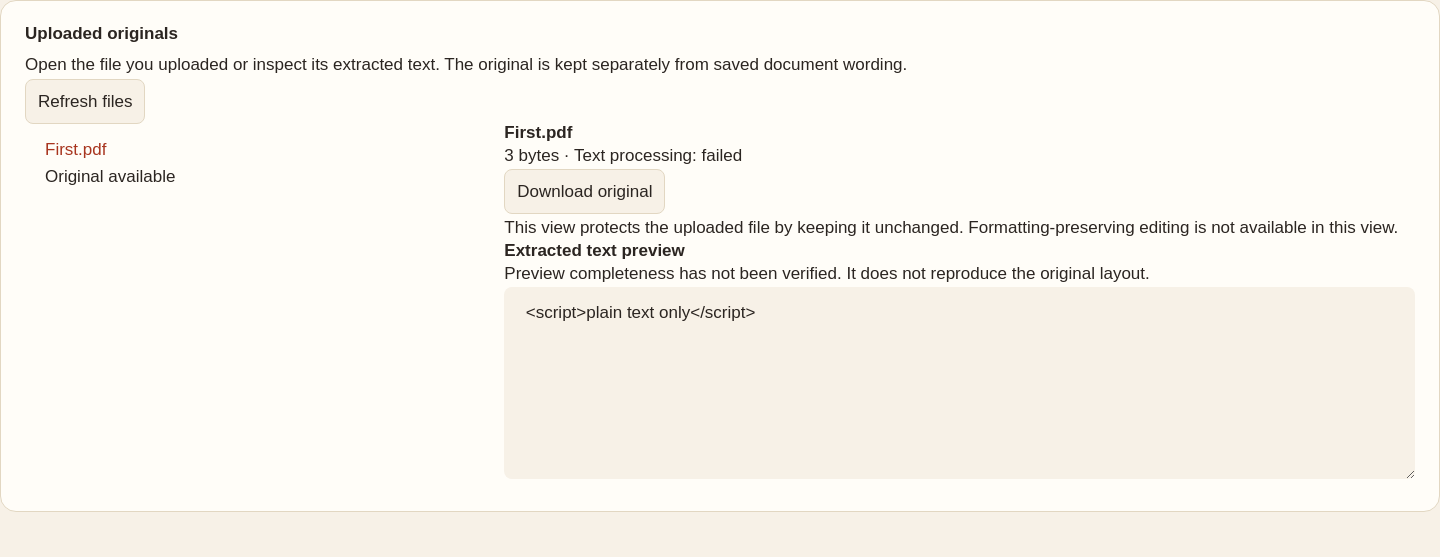
Test: retained workspace originals › keeps a failed download recoverable without creating a URL
Click the button "Download original": coordinates (585, 192) [504,169,665,214]
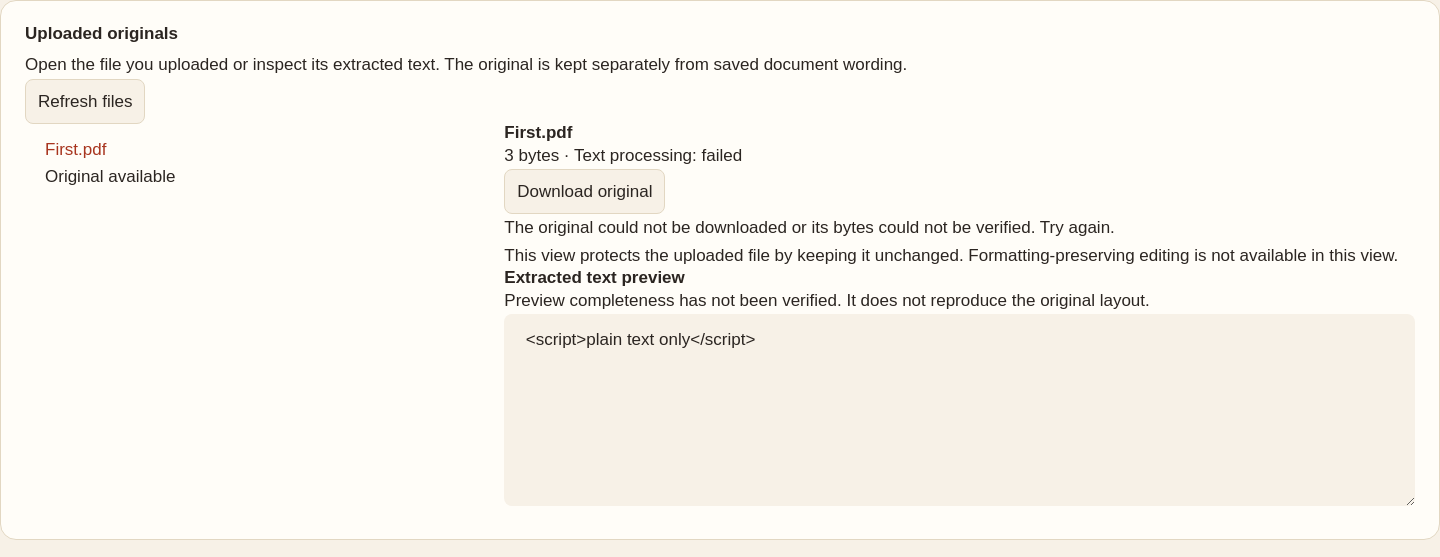
Expected: the text "could not be verified" is shown, [504,218,1115,238]
